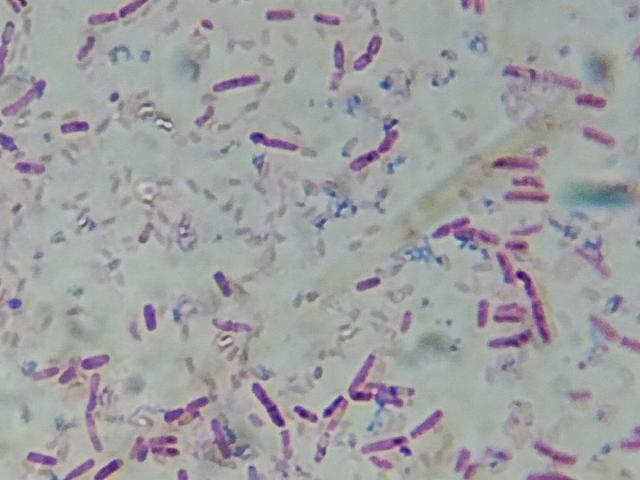E. coli: (502, 62, 582, 86), (250, 378, 284, 433), (6, 80, 48, 116), (211, 70, 266, 94), (411, 405, 447, 438), (535, 436, 581, 460), (252, 129, 294, 155), (503, 190, 558, 207), (214, 312, 248, 339), (524, 462, 575, 480), (205, 417, 227, 458), (2, 12, 19, 64), (582, 124, 617, 149), (527, 300, 549, 339), (493, 152, 538, 171), (85, 406, 104, 450), (355, 392, 400, 410), (495, 329, 529, 351), (214, 265, 232, 304), (594, 311, 617, 341), (370, 380, 423, 393), (60, 116, 94, 136), (96, 455, 123, 480), (68, 453, 93, 479), (497, 248, 515, 284), (616, 333, 640, 360), (616, 425, 640, 452), (316, 425, 334, 461), (453, 0, 493, 16), (522, 267, 542, 299), (137, 300, 155, 335), (265, 4, 295, 25), (354, 271, 379, 296), (292, 401, 319, 424), (455, 226, 496, 241), (472, 295, 489, 331), (365, 436, 401, 453), (195, 104, 218, 130), (16, 157, 47, 176), (327, 392, 348, 420), (31, 360, 56, 383), (576, 91, 609, 108), (313, 10, 344, 28), (87, 371, 102, 408), (369, 453, 398, 472), (181, 396, 207, 417), (81, 349, 109, 368), (331, 36, 347, 69), (378, 129, 402, 151), (80, 37, 99, 64), (399, 307, 418, 334), (432, 217, 471, 230), (355, 49, 376, 73), (350, 148, 378, 166), (355, 356, 376, 380), (29, 449, 58, 466), (59, 357, 74, 387), (496, 304, 519, 323), (131, 434, 146, 462), (152, 444, 178, 460), (521, 221, 553, 234), (89, 11, 114, 26), (146, 433, 177, 445), (511, 174, 547, 184), (503, 240, 530, 253), (454, 444, 467, 471), (166, 407, 181, 430), (466, 455, 478, 478), (369, 33, 382, 54), (0, 131, 18, 146), (172, 467, 188, 480)
